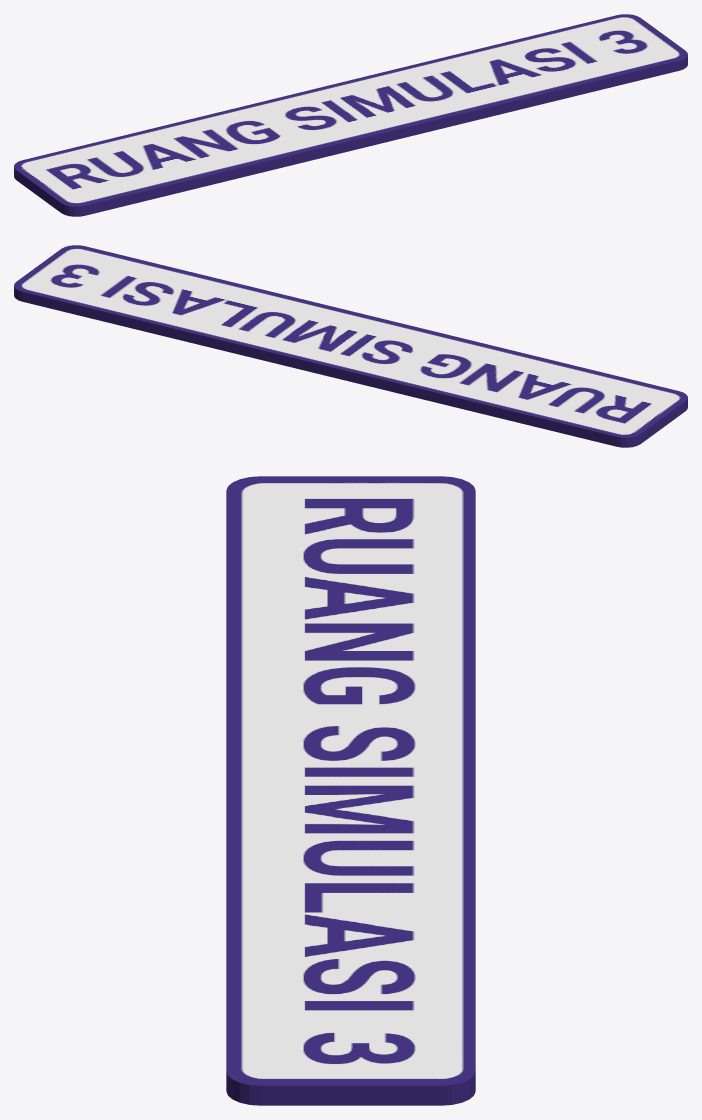
Rendered from SignSimulasi3.fbx.
The picture shows the model from 3 angles, top to bottom: view 1: azimuth 30°, elevation 25°; view 2: azimuth 150°, elevation 25°; view 3: azimuth 270°, elevation 25°; orthographic projection. The views are drawn at different scales.
Visible parts, largest first — view 1: SignSimulasi3; view 2: SignSimulasi3; view 3: SignSimulasi3.
Boxes of the visible parts, bbox=[...] form: SignSimulasi3: bbox=[14, 14, 687, 216]; SignSimulasi3: bbox=[14, 245, 687, 447]; SignSimulasi3: bbox=[226, 476, 475, 1105].
Size of the model in its own units: 537 by 8.21 by 92.97.
